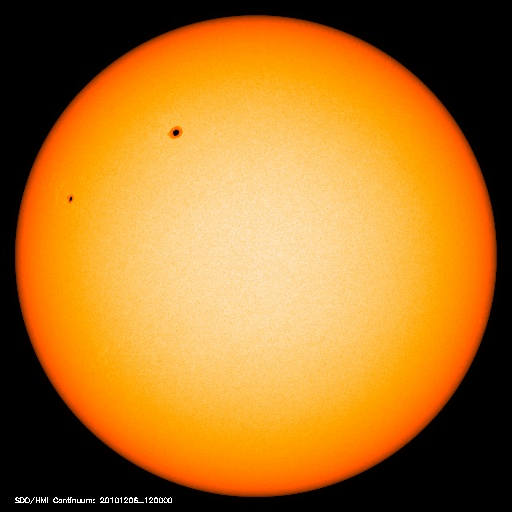sunspot: (162, 117, 190, 147), (57, 185, 83, 211)
